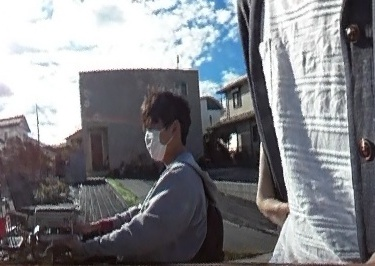person: (77, 86, 211, 266)
